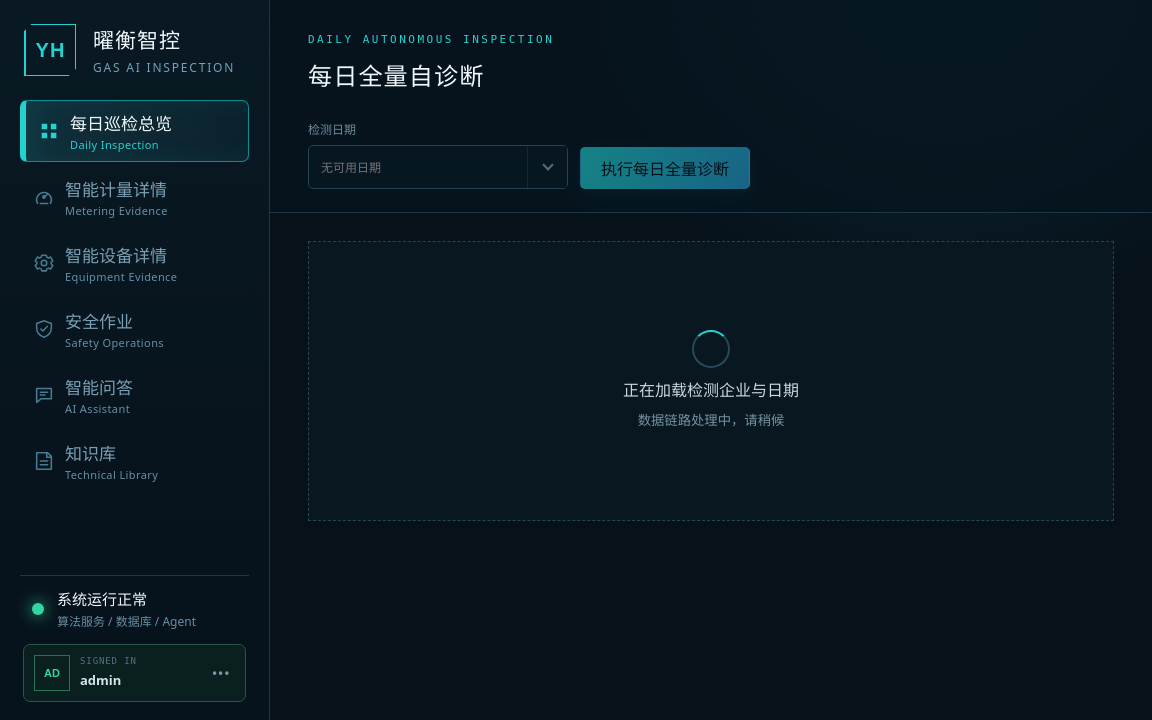
Test: 智能问答入口 › 从侧栏进入持久化对话，不依赖检测日期筛选
Click the button "智能问答 AI Assistant" at point(134, 395), box [20,364,249,426]
(page scrolled)
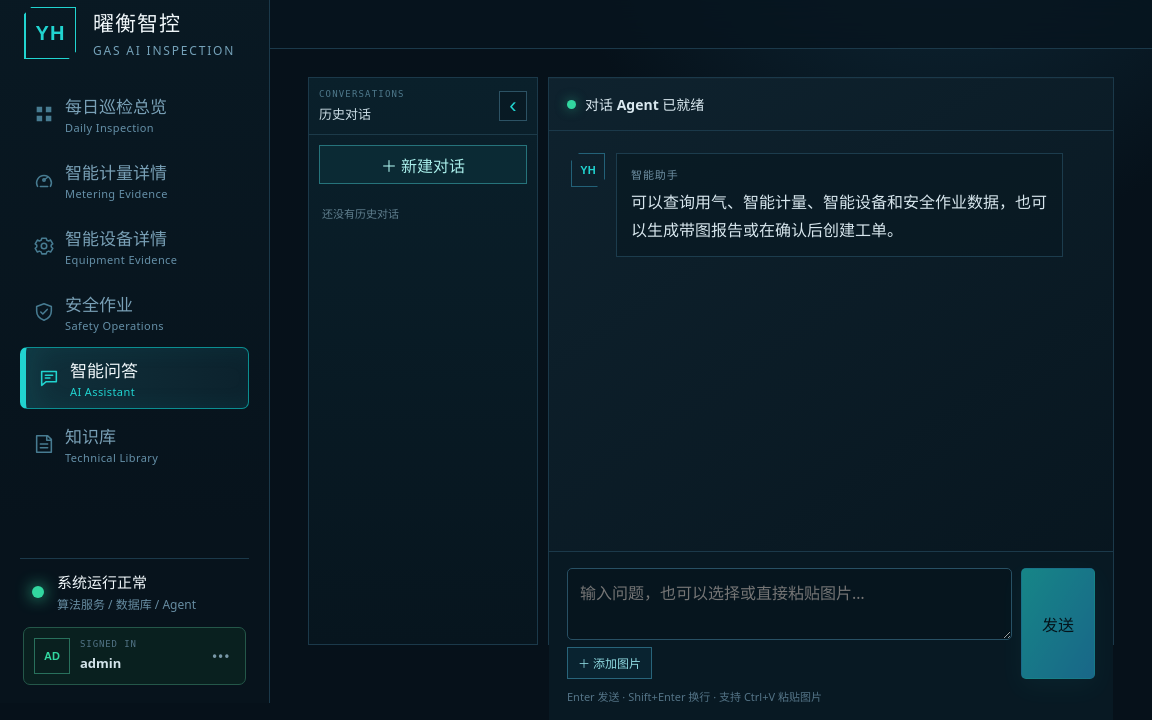
Expected: the text box named "对话输入" is enabled, [567,568,1012,640]
Expected: the text labelled "检测日期" is gone
